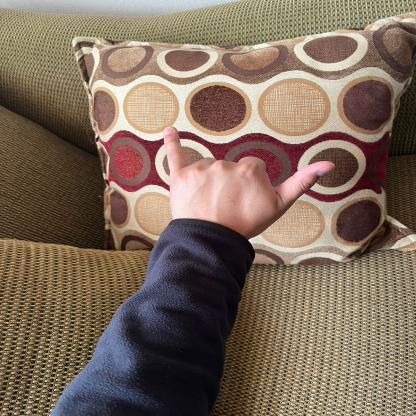Y: (156, 122, 336, 238)
